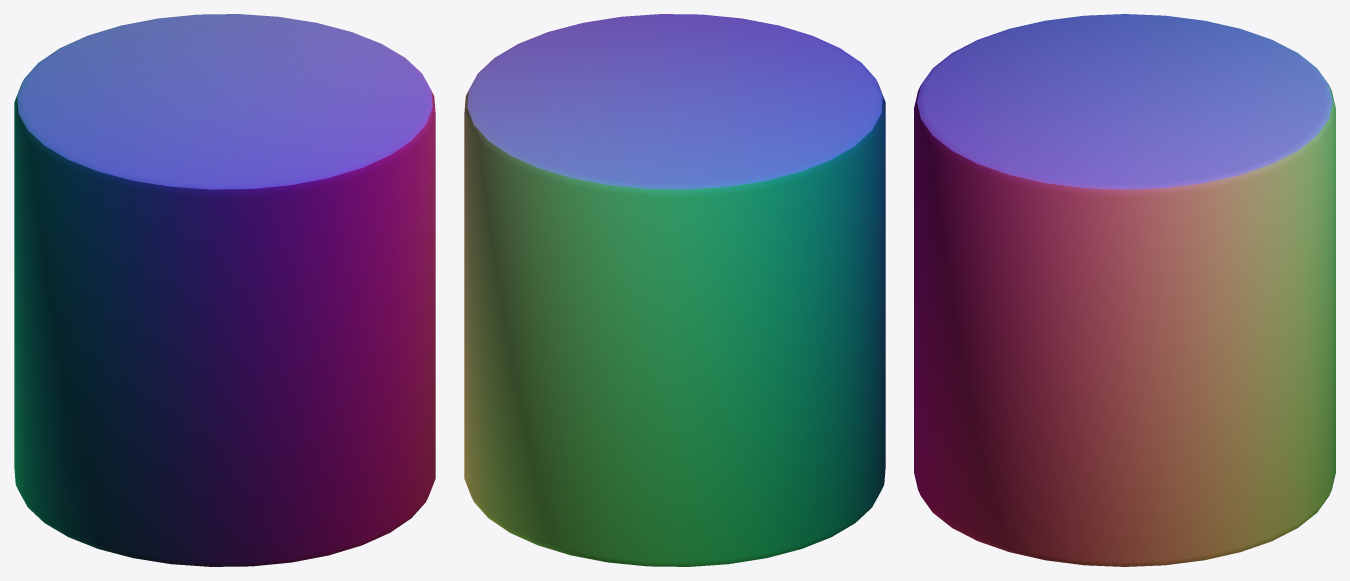
The model's file is CylinderBakedNormals.fbx.
3 views of the same model, side by side, from view 1: azimuth 30°, elevation 25°; view 2: azimuth 150°, elevation 25°; view 3: azimuth 270°, elevation 25° (orthographic).
Parts seen in each view (by area): view 1: Cylinder; view 2: Cylinder; view 3: Cylinder.
Boxes of the visible parts, bbox=[...] form: Cylinder: bbox=[14, 14, 435, 566]; Cylinder: bbox=[464, 14, 885, 566]; Cylinder: bbox=[914, 14, 1335, 566].
Bounding box in the file's own units: 20 × 20 × 20.
